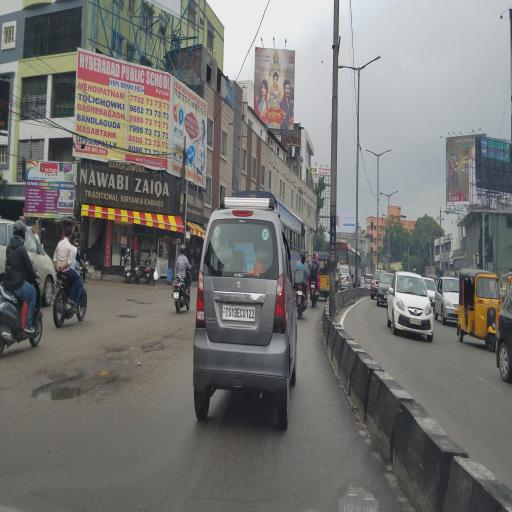street_light_0: (357, 50, 387, 74), (331, 55, 361, 78), (360, 137, 378, 168), (373, 178, 387, 202), (379, 143, 394, 164), (387, 179, 400, 201)
